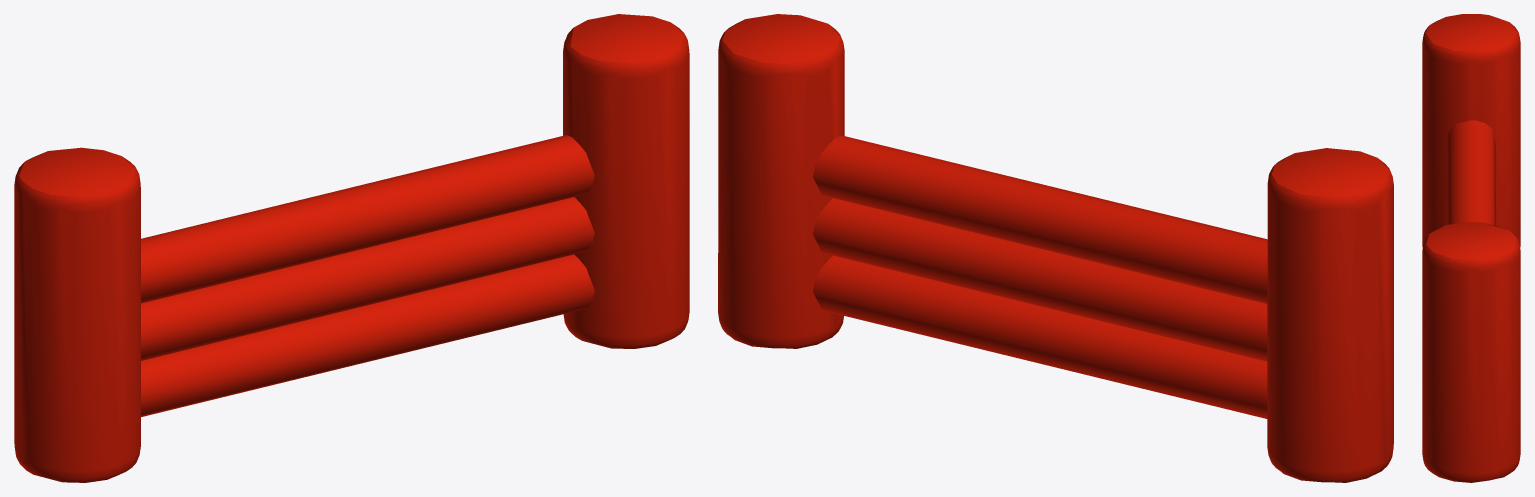
Rendered from Barrier_01.glb.
3 renders of one model, left to right at view 1: azimuth 30°, elevation 25°; view 2: azimuth 150°, elevation 25°; view 3: azimuth 270°, elevation 25°, orthographic. The views are drawn at different scales.
Parts seen in each view (by area): view 1: Barrier_01; view 2: Barrier_01; view 3: Barrier_01.
Part boxes in pixels (x1,y1,x2,y2): Barrier_01: [14, 14, 689, 482]; Barrier_01: [718, 14, 1393, 482]; Barrier_01: [1422, 14, 1520, 482].
Size of the model in its own units: 3.6 by 1.49 by 0.6001.
